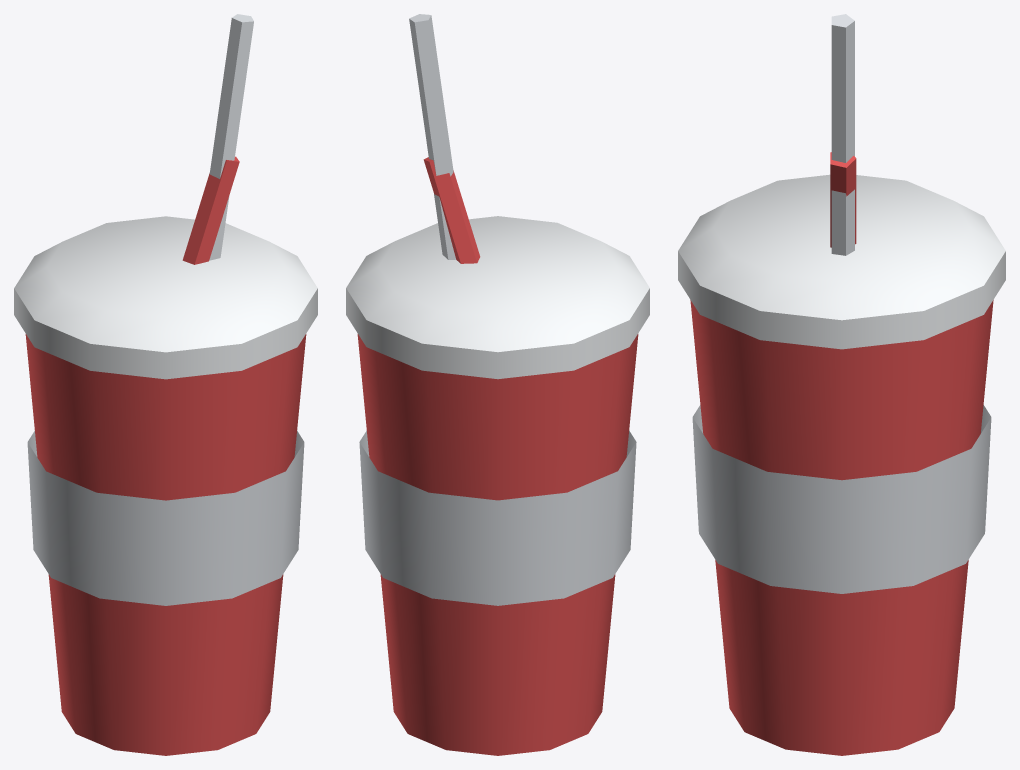
File: soda_cup.glb
The picture shows the model from 3 angles, left to right: view 1: azimuth 30°, elevation 25°; view 2: azimuth 150°, elevation 25°; view 3: azimuth 270°, elevation 25°; orthographic projection. The views are drawn at different scales.
Visible parts, largest first — view 1: soda_cup; view 2: soda_cup; view 3: soda_cup.
Boxes of the visible parts, x1,y1,x2,y2 form: soda_cup: (14,14,317,755); soda_cup: (346,14,649,755); soda_cup: (678,14,1005,755).
Bounding box in the file's own units: 0.102 × 0.2506 × 0.102.
